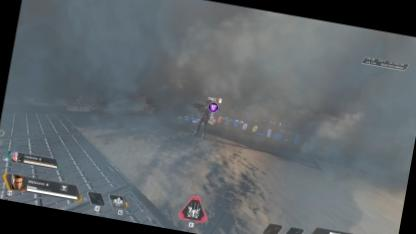Target: (193, 96, 214, 140)
